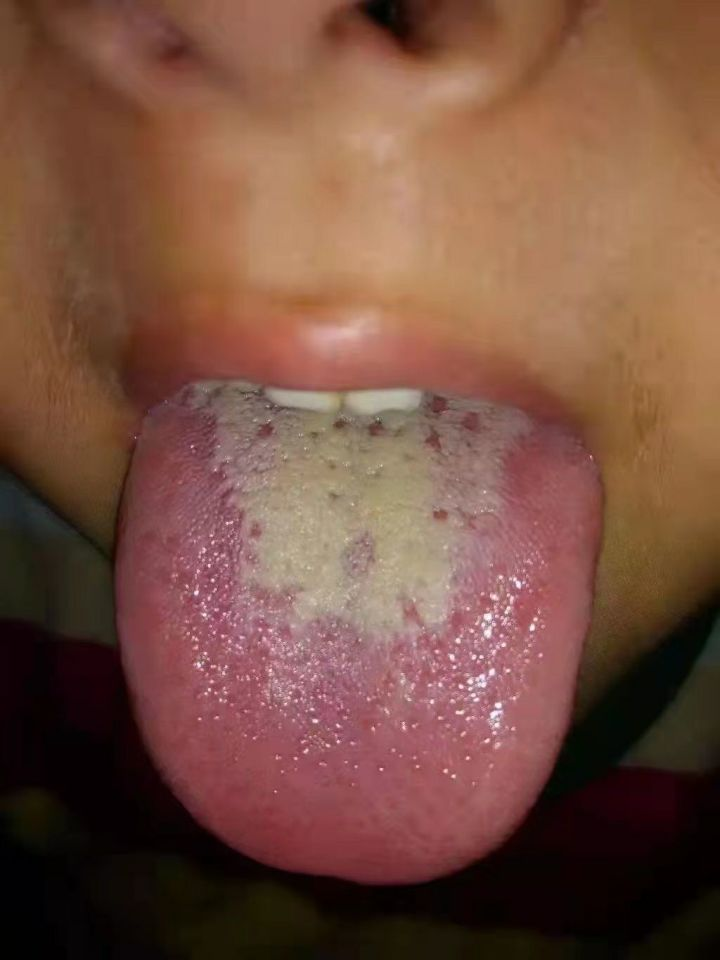hongshe: (114, 383, 606, 883)
huangtaishe: (113, 382, 605, 882)
